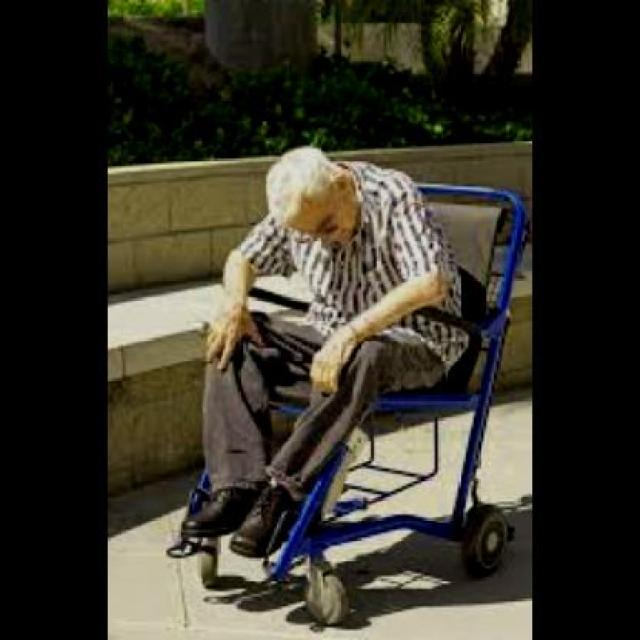wheelchairs: (152, 137, 528, 640)
